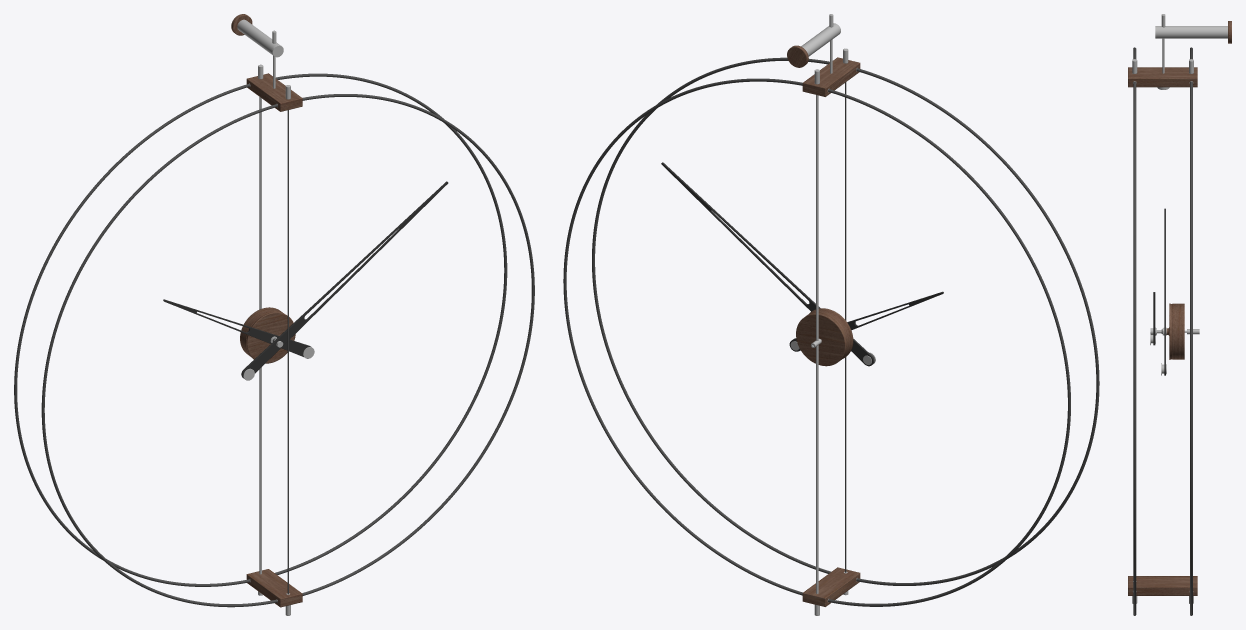
The model's file is clock88082.glb.
3 views of the same model, side by side, from view 1: azimuth 30°, elevation 25°; view 2: azimuth 150°, elevation 25°; view 3: azimuth 270°, elevation 25° (orthographic). The views are drawn at different scales.
Visible parts, largest first — view 1: clock88082; view 2: clock88082; view 3: clock88082.
Part boxes in pixels (bbox=[...]): clock88082: bbox=[14, 14, 534, 615]; clock88082: bbox=[563, 14, 1099, 615]; clock88082: bbox=[1128, 14, 1231, 615].
Bounding box in the file's own units: 0.8999 × 1 × 0.16.
1 material, 1 textured.
